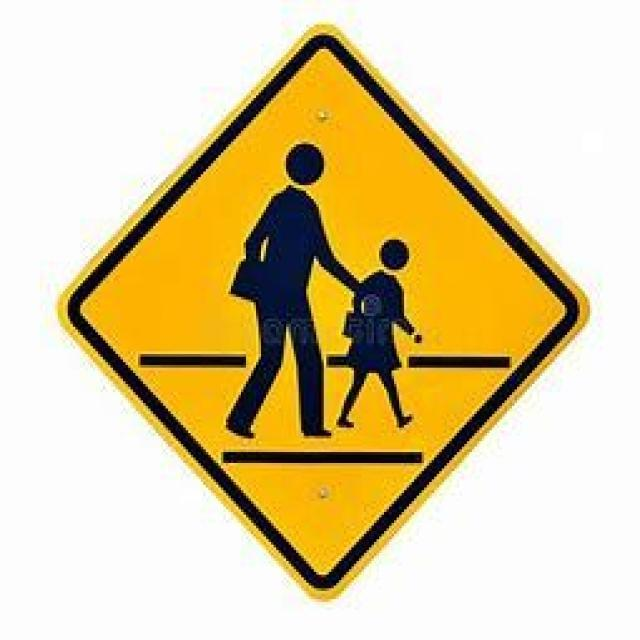school ahead: (56, 27, 599, 591)
